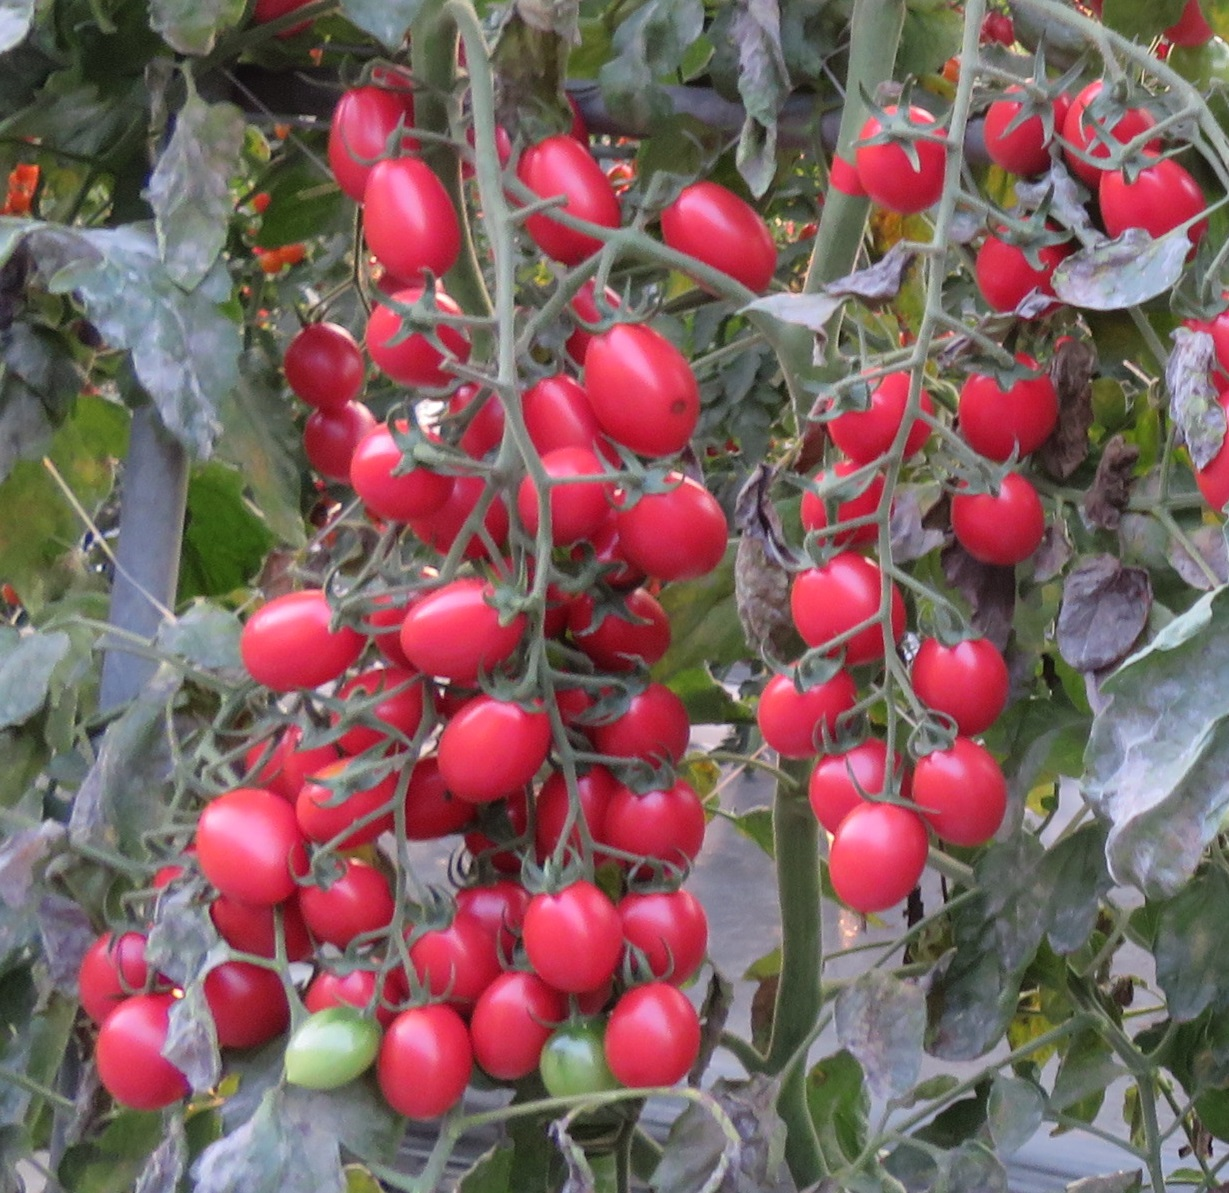green: (280, 1008, 382, 1096), (535, 1018, 605, 1122)
red: (583, 318, 700, 452), (658, 175, 785, 299), (789, 553, 922, 669), (611, 464, 740, 581), (397, 578, 537, 680), (238, 588, 371, 695), (431, 685, 545, 802), (952, 351, 1064, 464), (1098, 149, 1215, 258), (604, 979, 710, 1096), (380, 991, 473, 1125), (832, 789, 931, 915), (913, 738, 1015, 858), (514, 138, 616, 258), (367, 154, 462, 280), (89, 995, 194, 1110), (1059, 75, 1169, 183), (198, 784, 305, 894), (327, 76, 419, 204), (948, 464, 1062, 567), (613, 869, 710, 989), (525, 884, 627, 994), (359, 289, 474, 386), (346, 425, 462, 520), (825, 368, 942, 462), (910, 637, 1014, 736), (403, 469, 516, 559), (748, 669, 873, 751), (593, 674, 697, 769), (473, 968, 561, 1079), (857, 104, 946, 211), (520, 448, 614, 545), (295, 759, 410, 839), (74, 922, 166, 1020), (794, 469, 901, 551), (410, 912, 501, 1008), (799, 738, 907, 817), (292, 862, 401, 938), (979, 227, 1071, 311), (573, 593, 680, 664), (982, 85, 1064, 173), (200, 965, 284, 1047), (606, 788, 680, 879), (287, 322, 369, 405), (518, 379, 600, 451), (301, 408, 382, 475)
